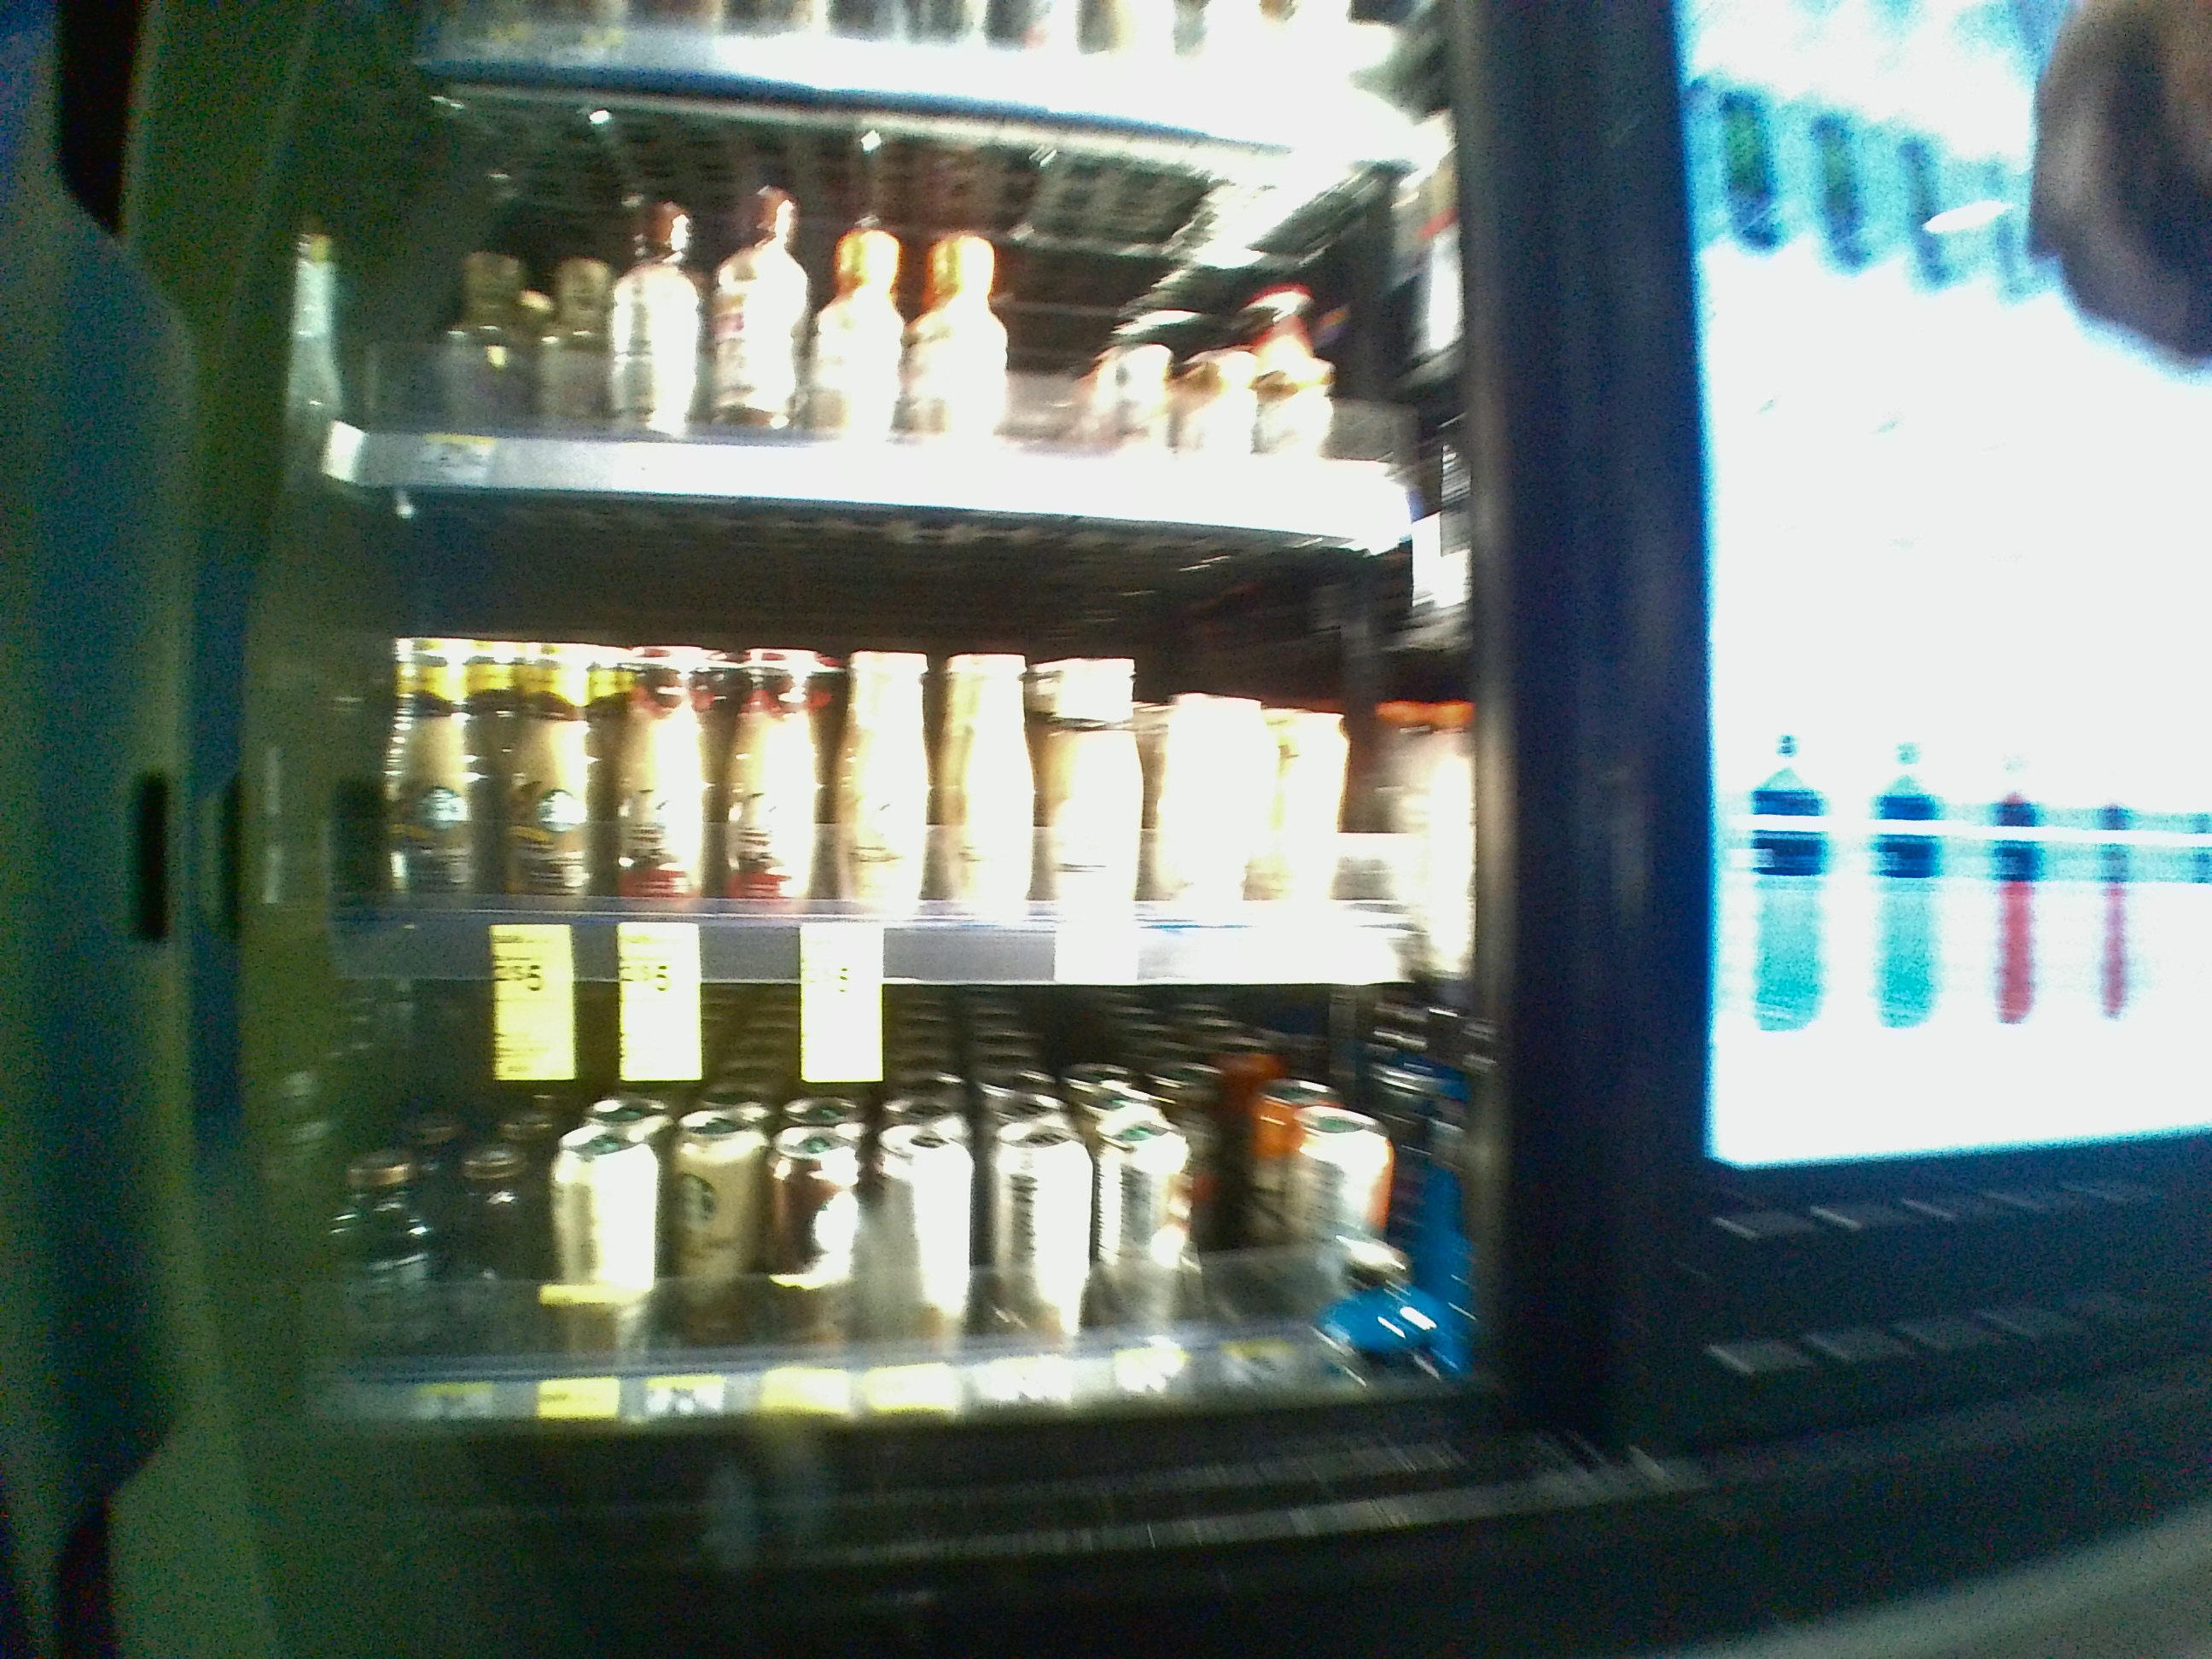shelf: (258, 493, 1498, 992), (260, 974, 1508, 1412)
